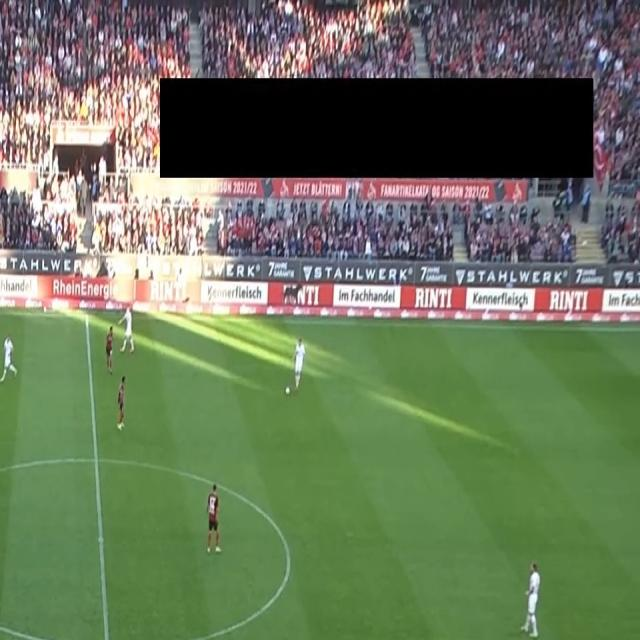ball: (285, 385, 291, 396)
